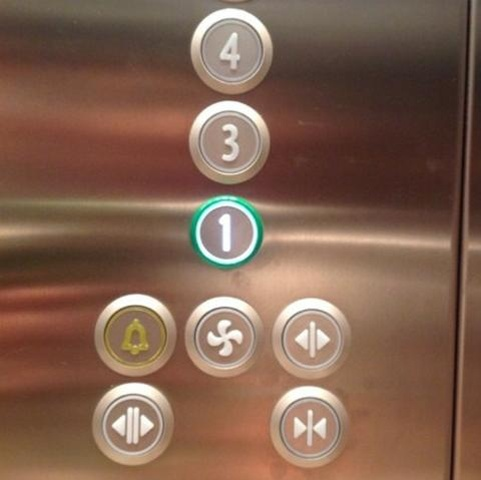1: (185, 191, 268, 272)
3: (187, 100, 274, 187)
4: (188, 6, 276, 97)
alarm: (94, 293, 177, 378)
close: (268, 384, 351, 471)
fan: (183, 293, 266, 380)
open: (91, 381, 178, 468), (270, 293, 353, 381)
